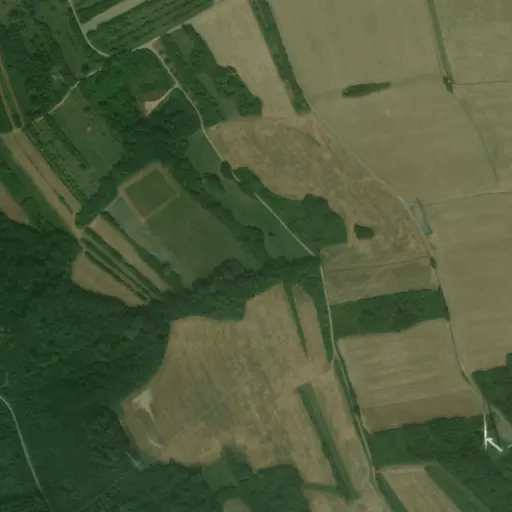wt: (475, 383, 512, 463)
